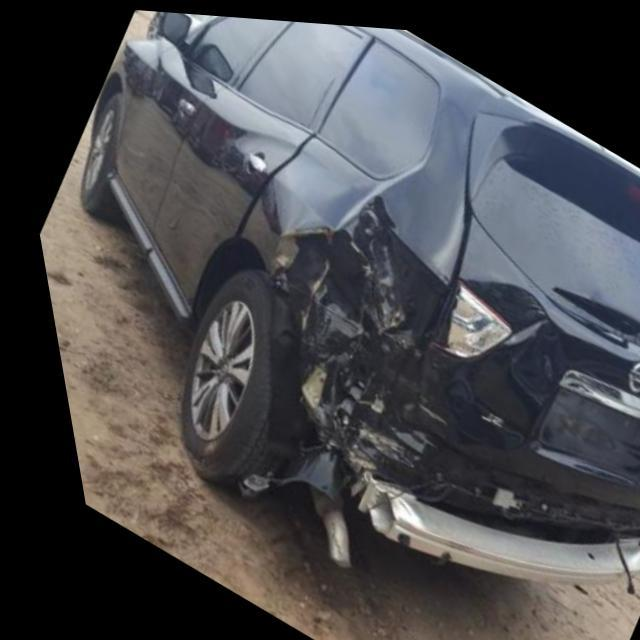crack: (403, 444, 640, 538)
lamp broken: (426, 272, 535, 353)
no part: (221, 190, 454, 528)
